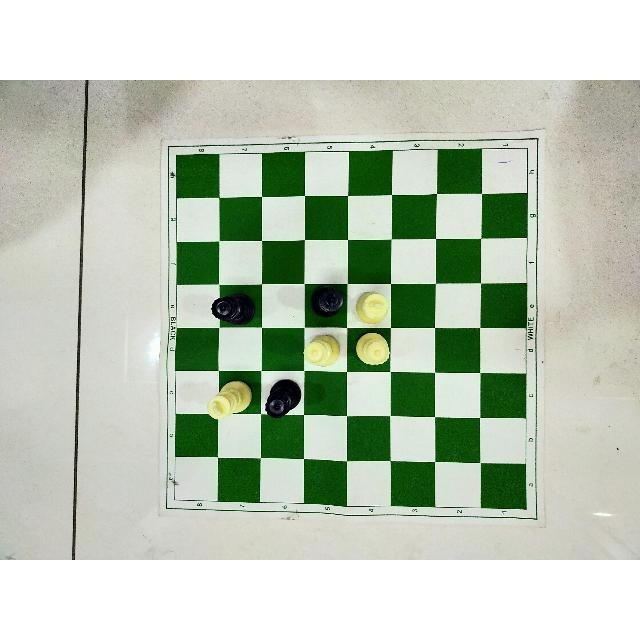black-king: (310, 285, 345, 317)
black-queen: (262, 381, 302, 421), (207, 293, 256, 325)
white-king: (206, 380, 254, 422), (355, 290, 391, 325)
white-queen: (353, 330, 392, 371), (302, 332, 344, 368)
